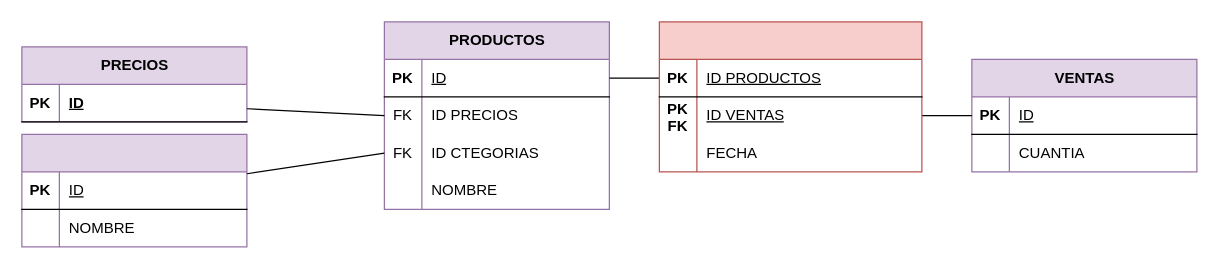
This 1219x269 diagram has some shape labels left out. Each missing label, with the box of its shape:
CATEGORIAS: (21, 133, 247, 247)
TIENEN VENTAS: (658, 21, 922, 172)
